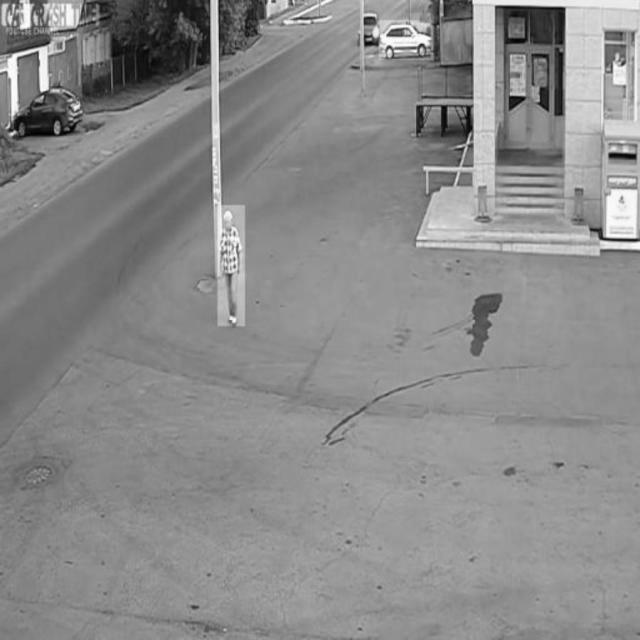person: (218, 206, 245, 327)
vehicle: (14, 87, 85, 139), (379, 21, 433, 61), (359, 12, 379, 46)
